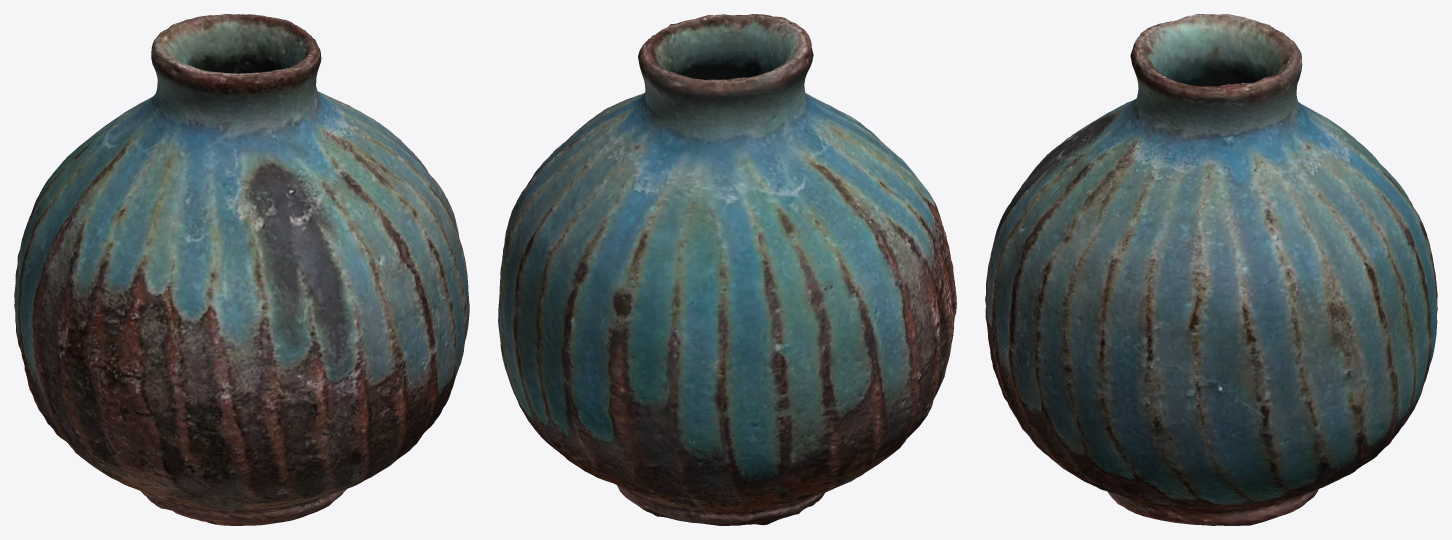
File: vase-ichirin-zachi.glb
3 renders of one model, left to right at view 1: azimuth 30°, elevation 25°; view 2: azimuth 150°, elevation 25°; view 3: azimuth 270°, elevation 25°, orthographic.
Visible parts, largest first — view 1: Mesh_0; view 2: Mesh_0; view 3: Mesh_0.
Boxes of the visible parts, x1,y1,x2,y2 form: Mesh_0: [14, 14, 469, 525]; Mesh_0: [498, 14, 956, 525]; Mesh_0: [985, 14, 1437, 525].
Size of the model in its own units: 0.0561 by 0.0613 by 0.0561.
Materials: 1 (1 with a texture image).
